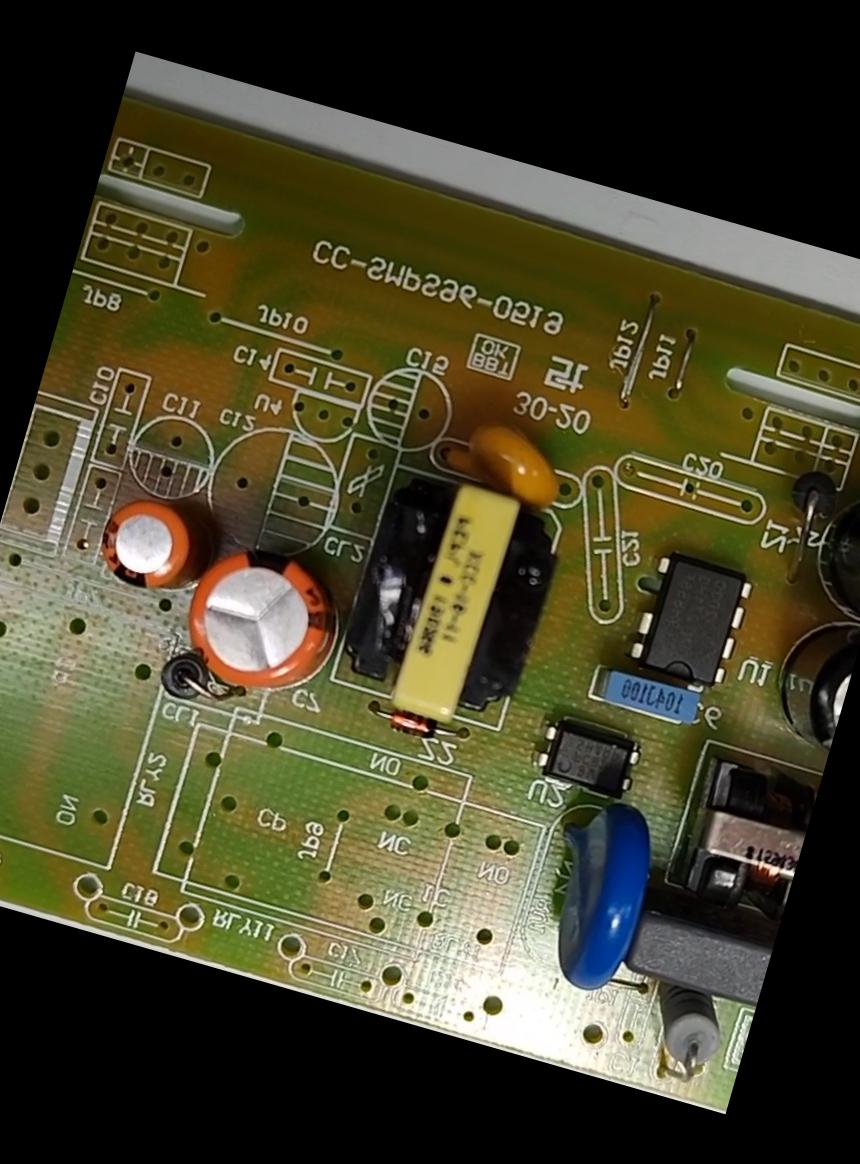Cap1: (154, 516, 366, 730)
Cap2: (78, 474, 228, 610)
Cap3: (744, 591, 859, 776)
Cap4: (774, 455, 859, 637)
MOSFET: (612, 535, 768, 704)
Mov: (502, 769, 680, 1004)
Resistor: (626, 973, 738, 1093)
Transformer: (316, 441, 576, 746), (656, 744, 820, 938)
